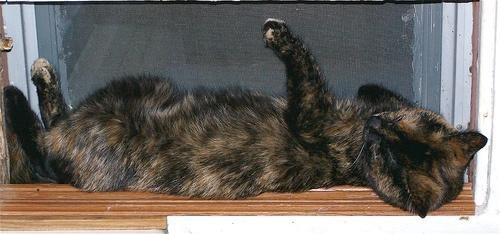cat: (3, 18, 489, 219)
